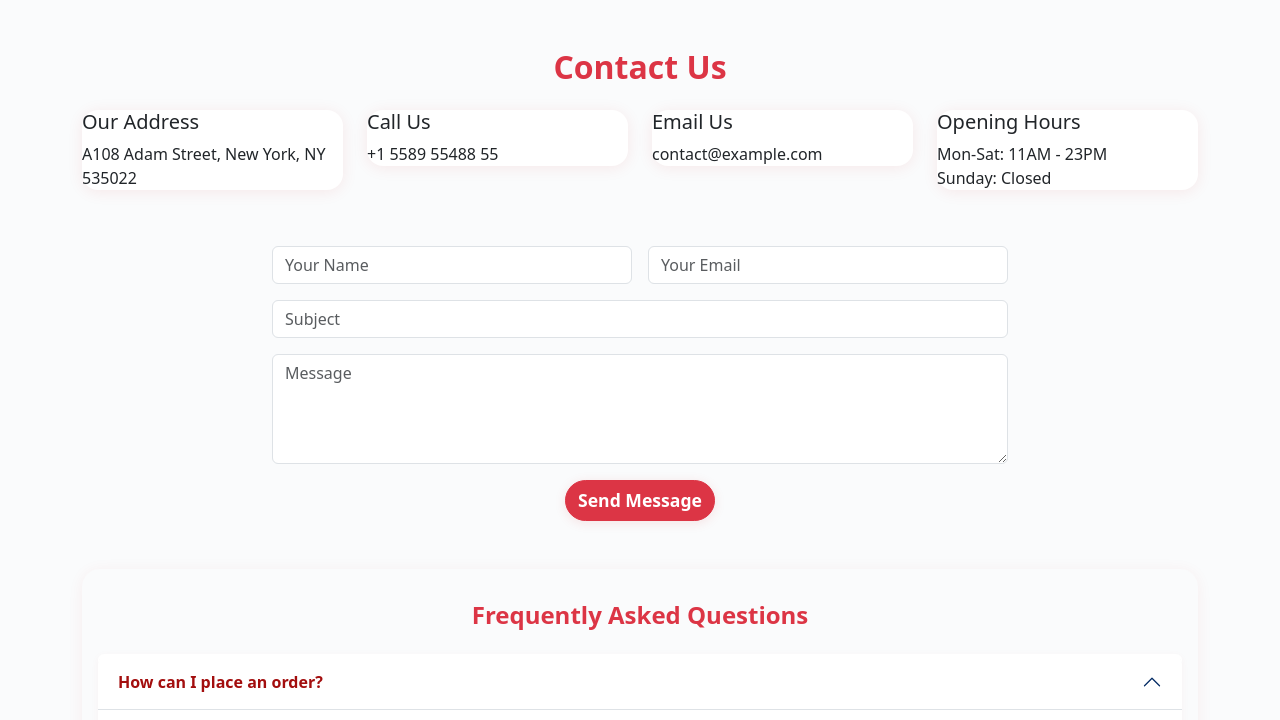
Scenario: Contact Page › form submission works with valid data
Type "John Doe" into the field with placeholder "Your Name".
click(452, 265); type("John Doe")  # box [272,246,632,284]
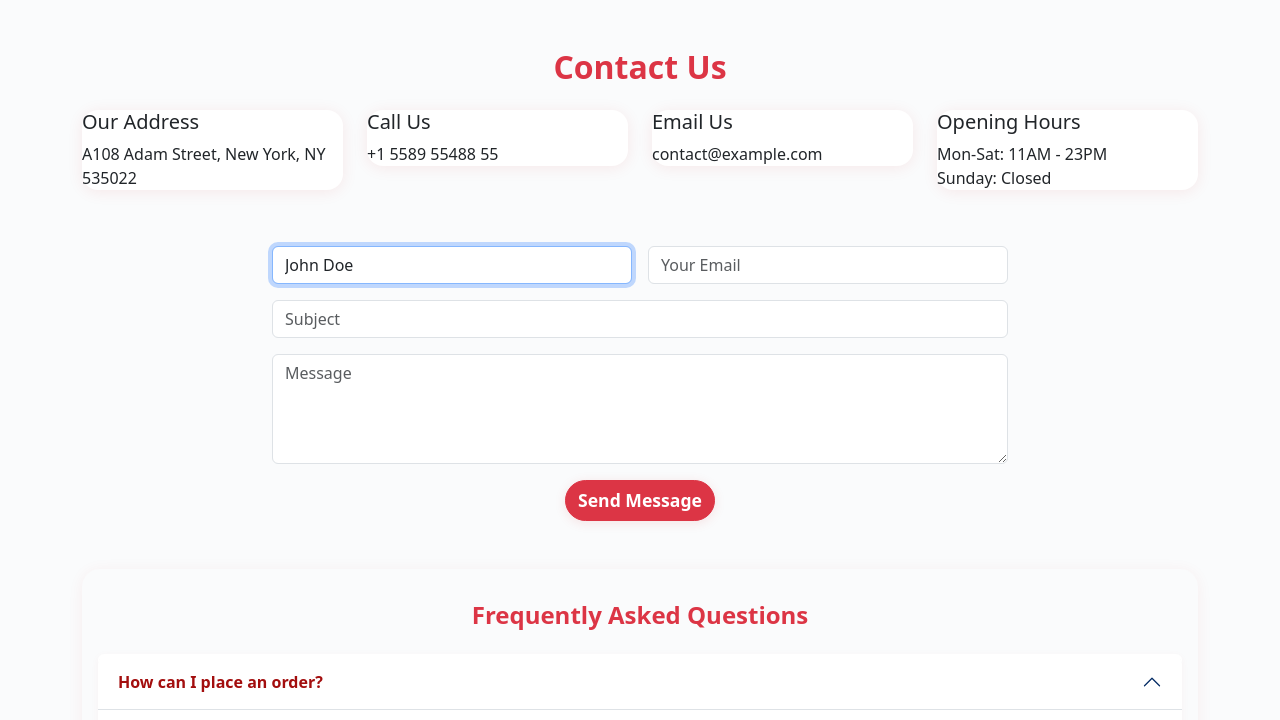
Type "john@example.com" into the field with placeholder "Your Email".
click(828, 265); type("john@example.com")  # box [648,246,1008,284]
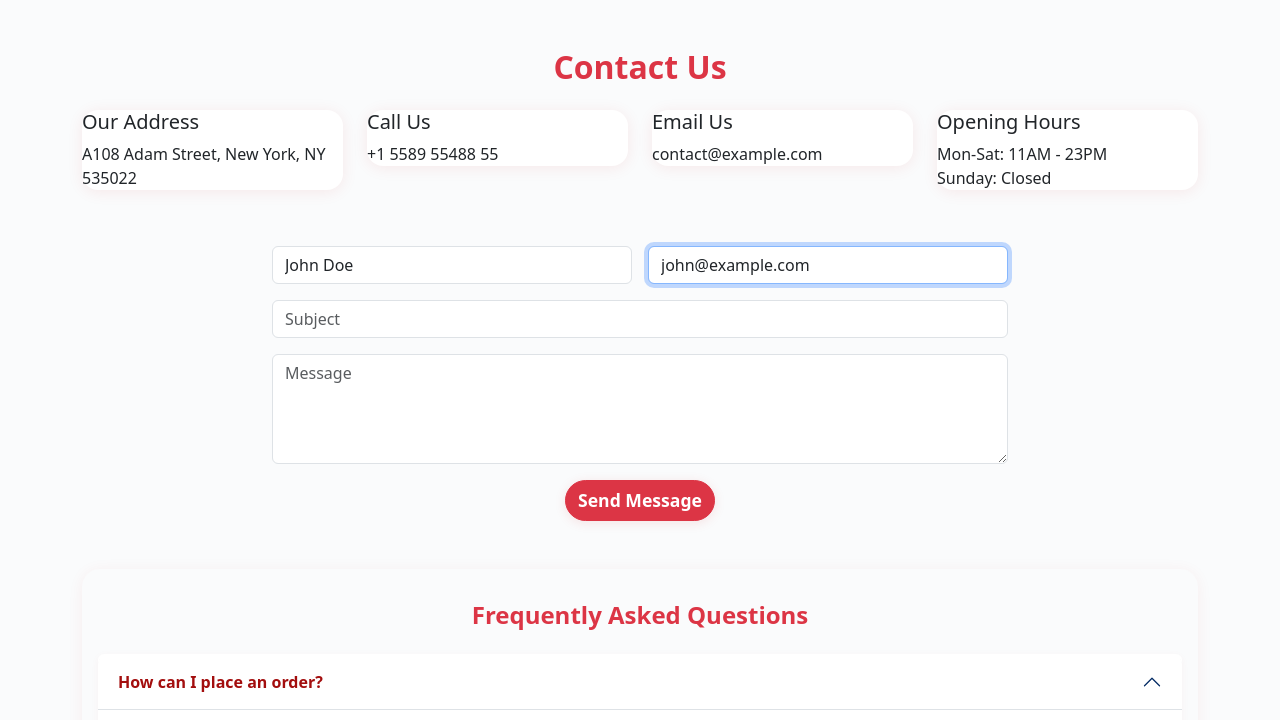
Type "Test Subject" into the field with placeholder "Subject".
click(640, 319); type("Test Subject")  # box [272,300,1008,338]
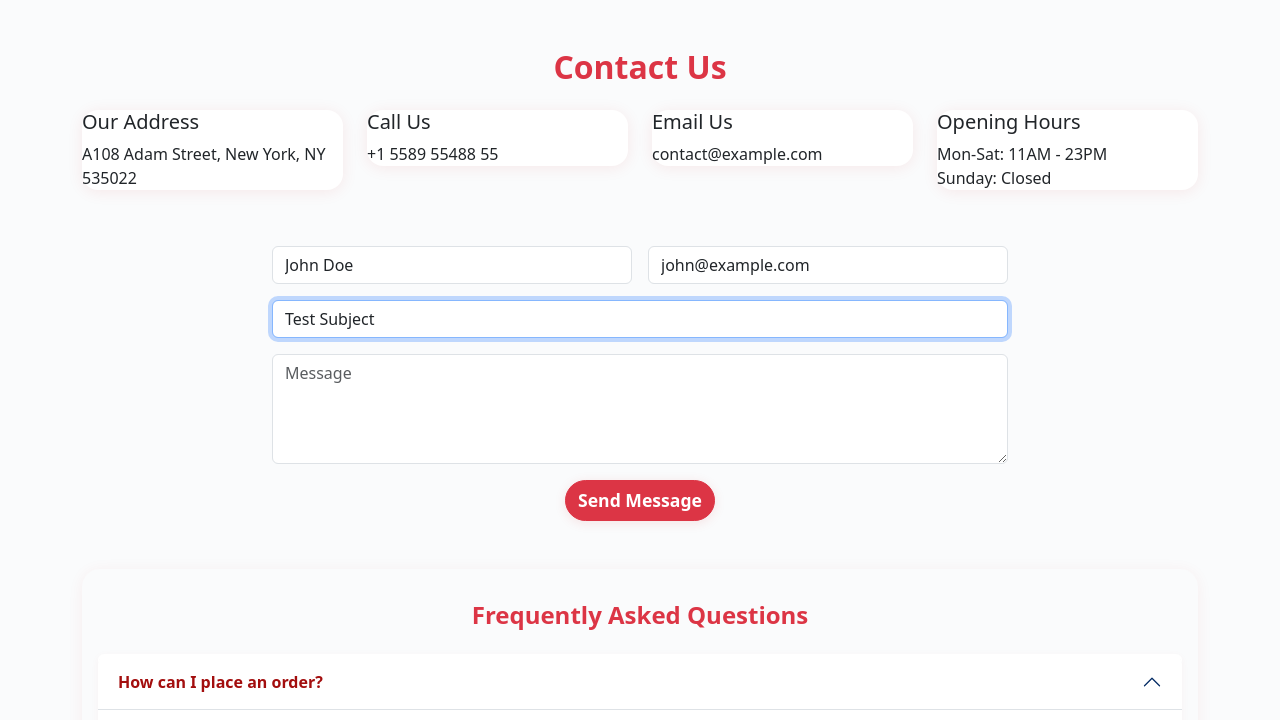
Type "This is a test message with enough characters" into the text box with placeholder "Message".
click(640, 409); type("This is a test message with enough characters")  # box [272,354,1008,464]
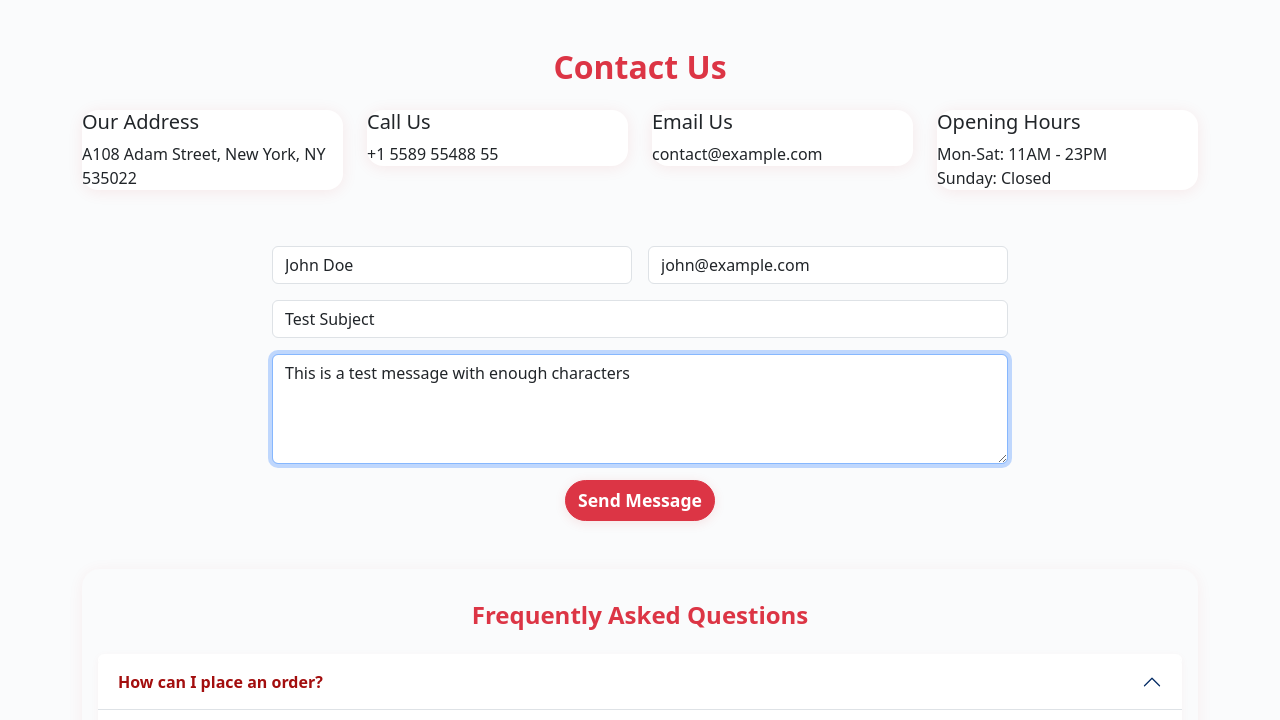
Click the button "Send Message".
click(640, 501)  # box [565,480,715,521]
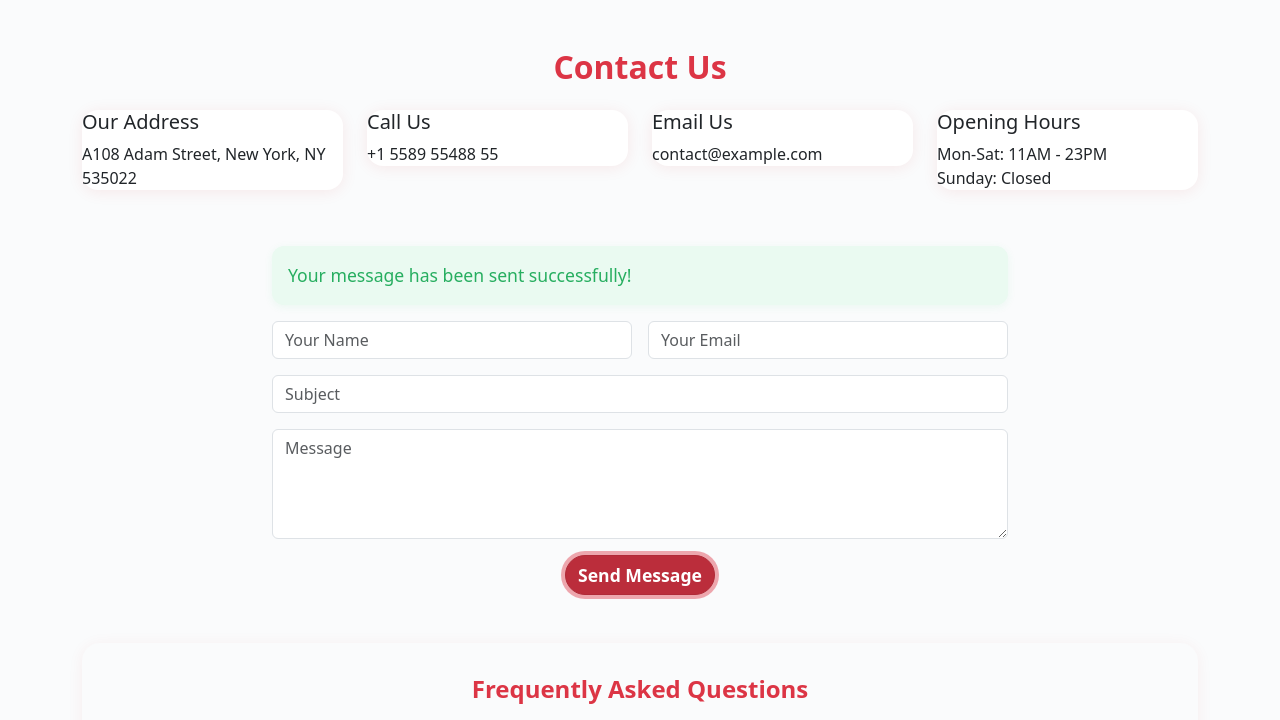
Result: the text "Your message has been sent successfully!" is shown at [272,246,1008,305]
